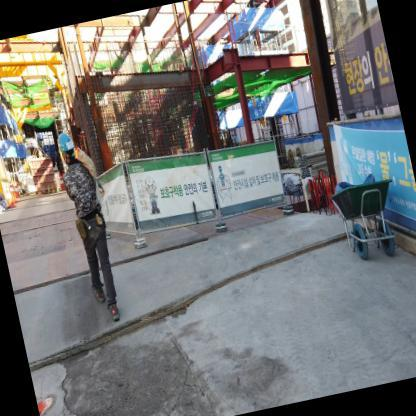safety-shoe: (102, 299, 126, 328)
